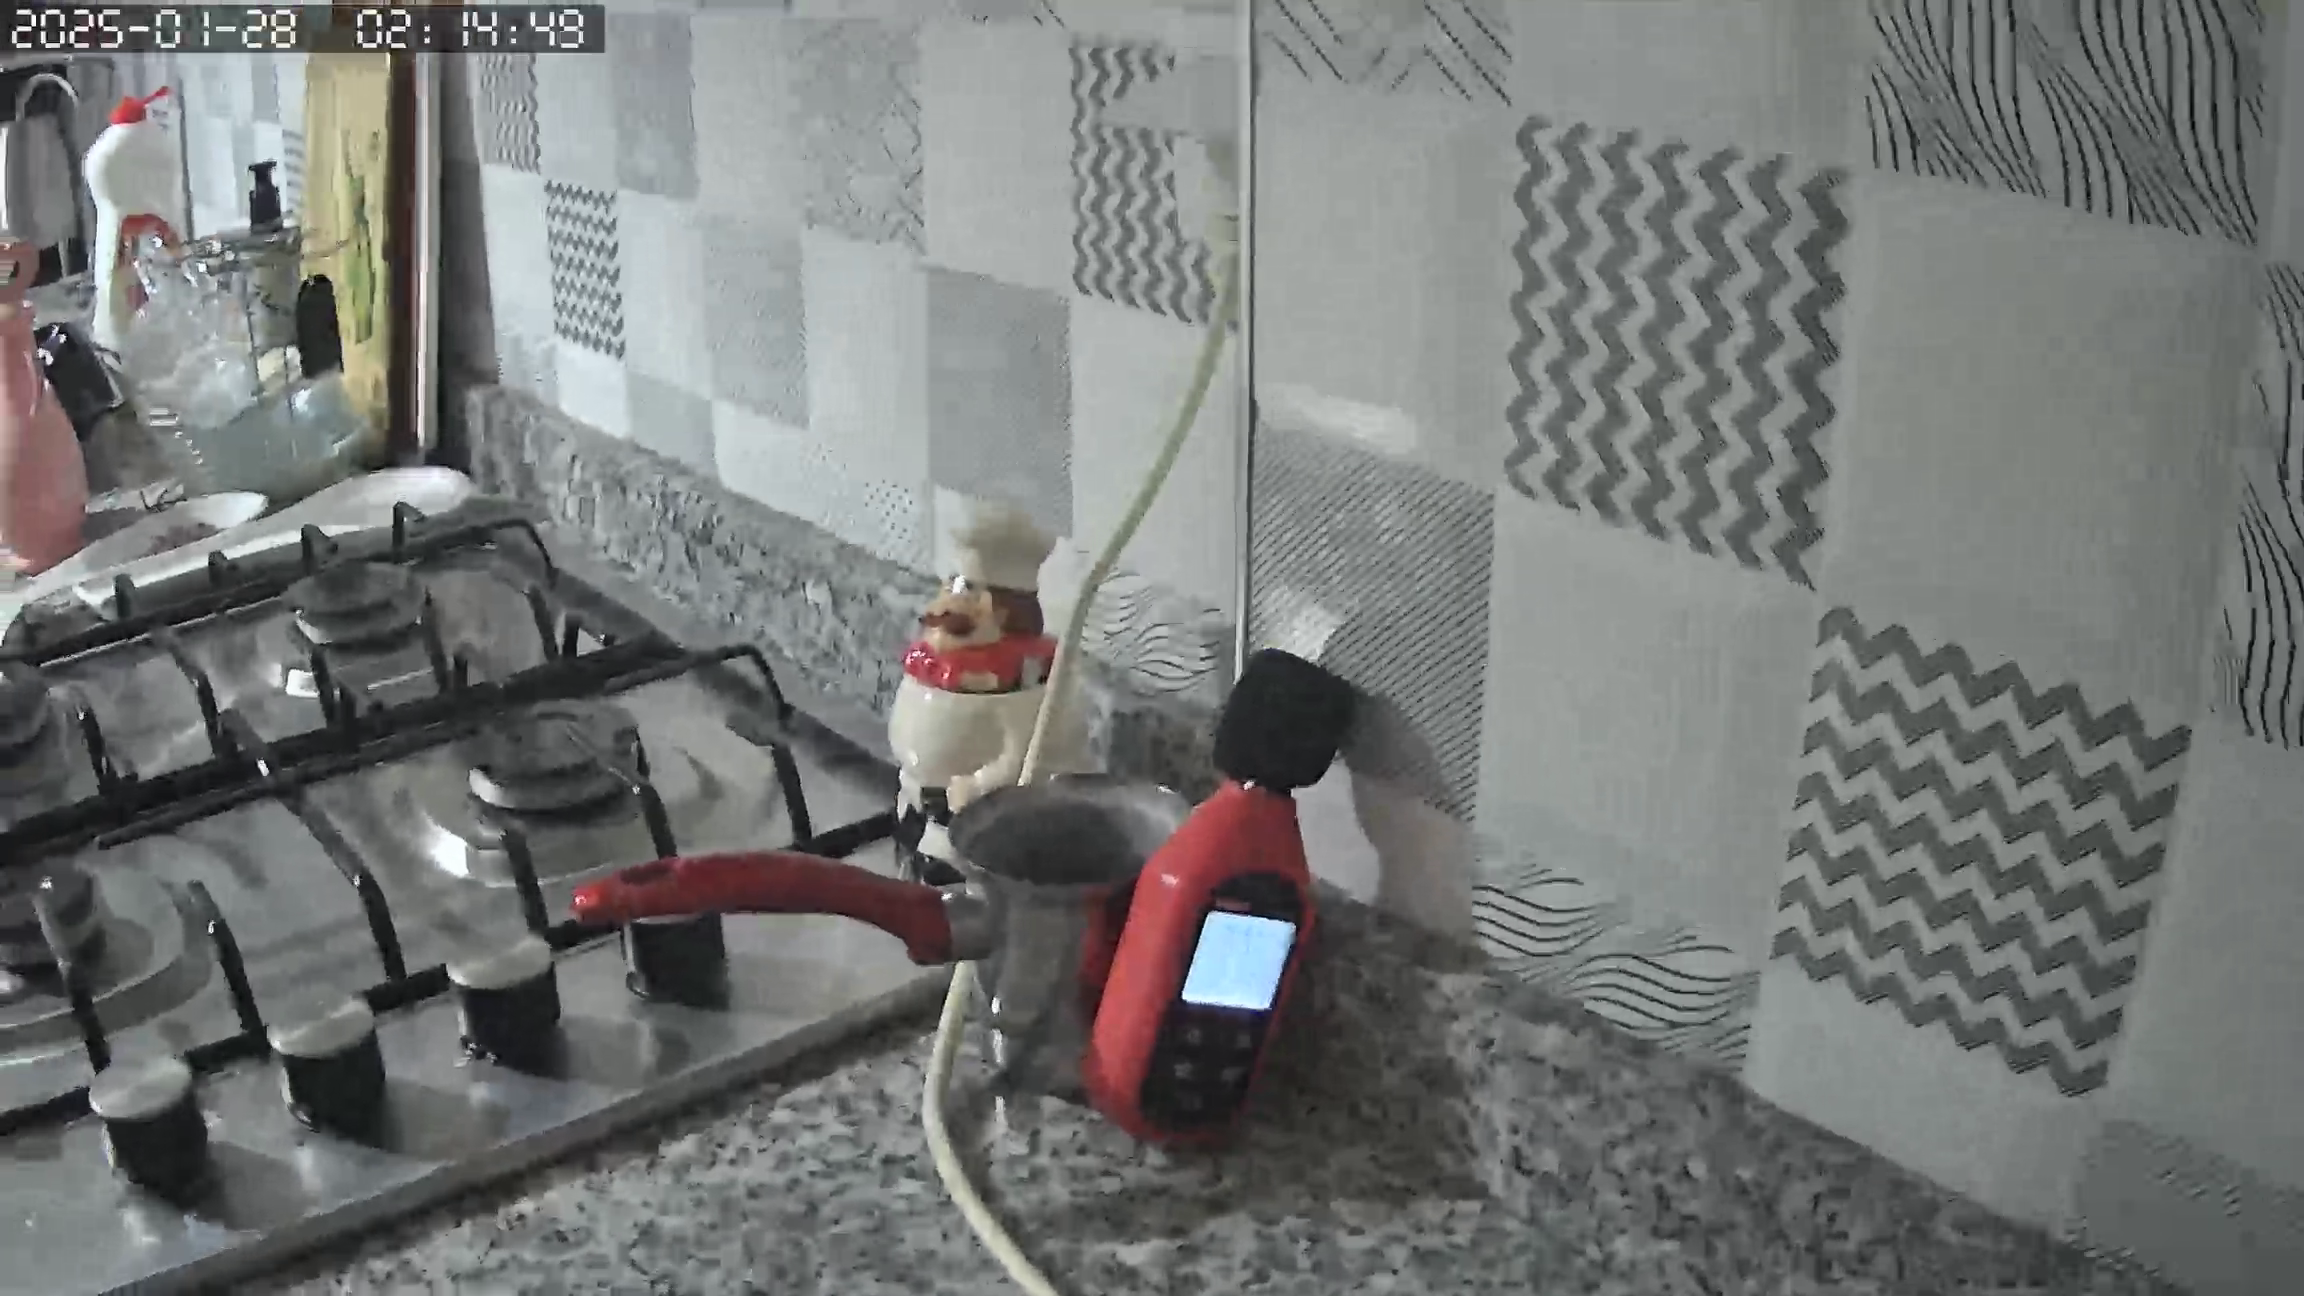screen: (1184, 908, 1293, 1017)
